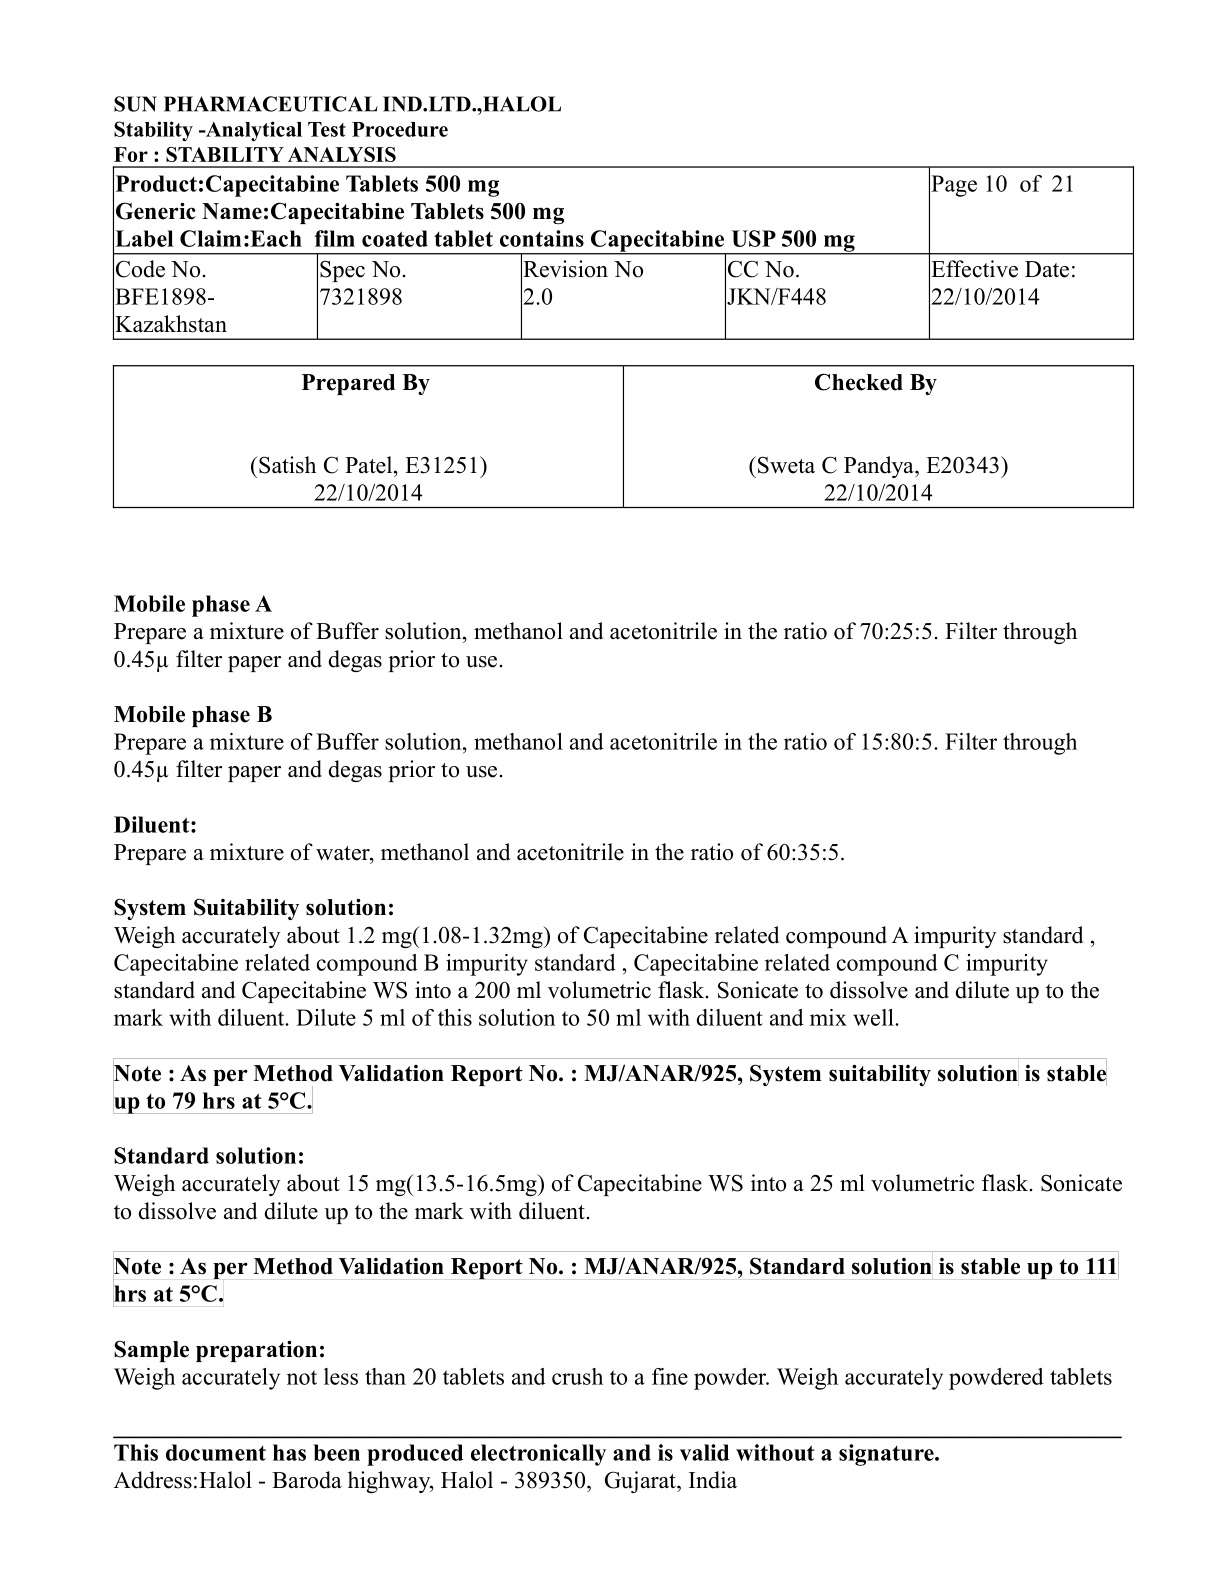full_lined: (111, 364, 1137, 510)
merged_cells: (111, 165, 1137, 342)
